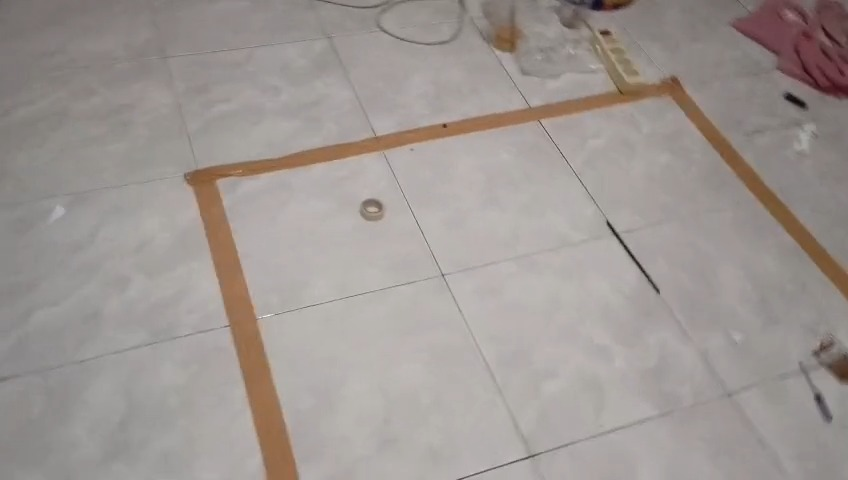floor marking: (186, 77, 847, 479)
